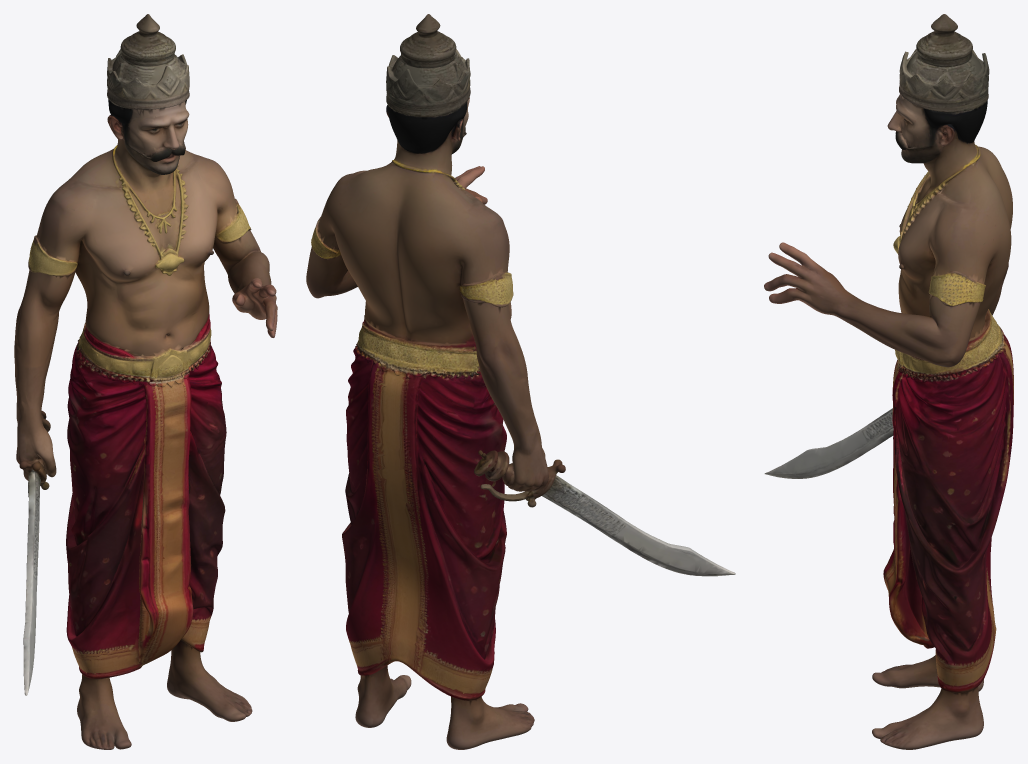
File: ariyan_nedunjeliyan_ii.glb
3 renders of one model, left to right at view 1: azimuth 30°, elevation 25°; view 2: azimuth 150°, elevation 25°; view 3: azimuth 270°, elevation 25°, orthographic.
Parts seen in each view (by area): view 1: node_0; view 2: node_0; view 3: node_0.
Boxes of the visible parts, x1=… form: node_0: x1=14, y1=14, x2=277, y2=749; node_0: x1=306, y1=14, x2=735, y2=749; node_0: x1=764, y1=14, x2=1013, y2=749.
Size of the model in its own units: 0.5501 by 1.12 by 0.3636.
1 material, 1 textured.
